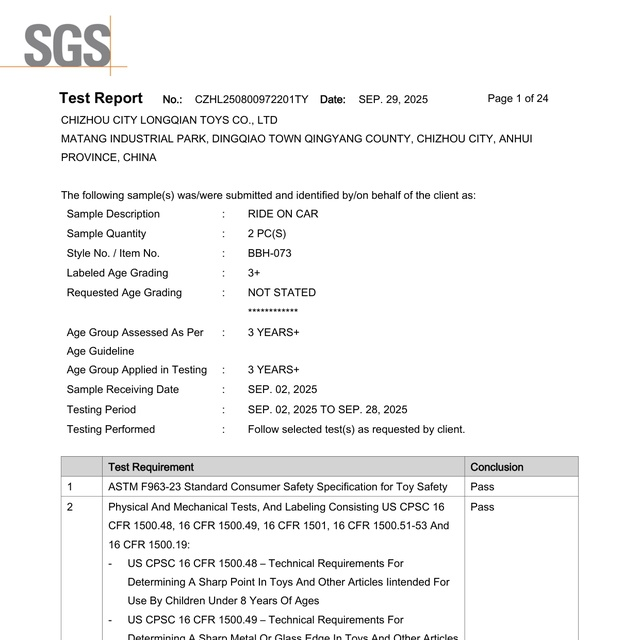sgs: (25, 23, 111, 68)
